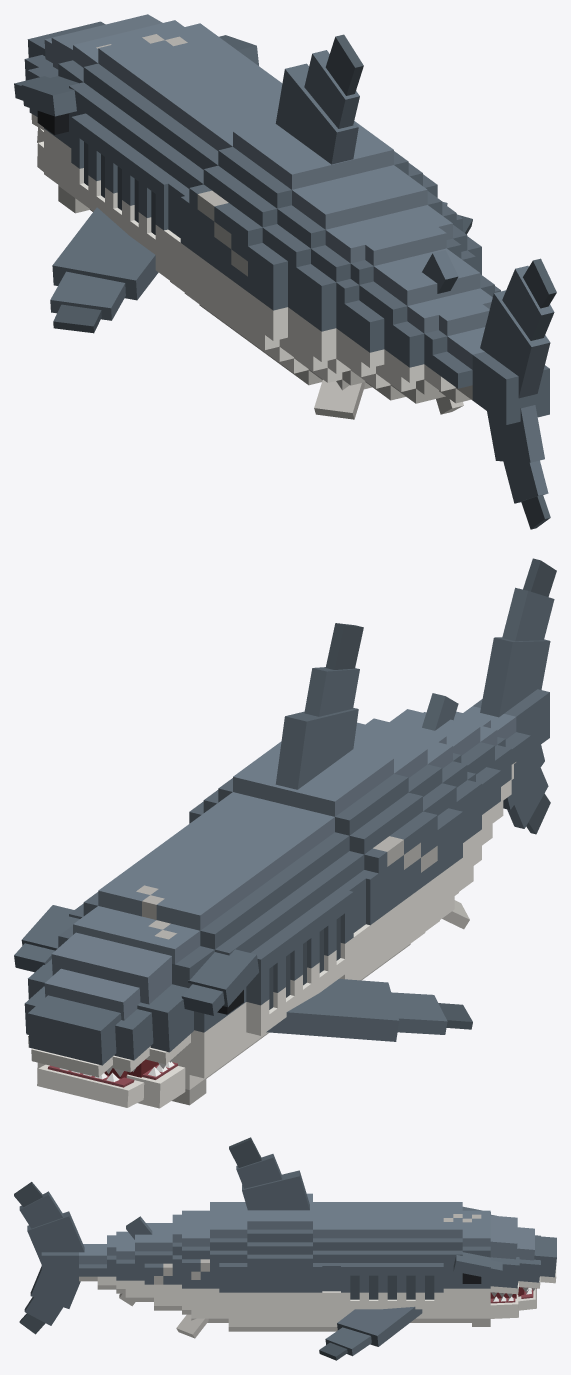
Rendered from GreatWhite.obj.
The picture shows the model from 3 angles, top to bottom: view 1: azimuth 30°, elevation 25°; view 2: azimuth 150°, elevation 25°; view 3: azimuth 270°, elevation 25°; orthographic projection. The views are drawn at different scales.
Visible parts, largest first — view 1: S2, S1, S3, S4, Tail, Head, S5; view 2: Head, S2, S1, Tail, S3, S4, S5; view 3: S2, S1, Head, S3, Tail, S4, S5.
Boxes of the visible parts, box(x1,y1,x2,y2) form: S2: box(155, 34, 437, 372); S1: box(50, 35, 472, 333); S3: box(248, 165, 481, 419); S4: box(336, 227, 500, 414); Tail: box(472, 258, 556, 529); Head: box(14, 14, 258, 213); S5: box(401, 294, 492, 403); Head: box(14, 878, 258, 1108); S2: box(189, 623, 437, 980); S1: box(115, 816, 472, 1070); Tail: box(473, 558, 556, 834); S3: box(353, 722, 481, 956); S4: box(365, 693, 503, 845); S5: box(423, 706, 530, 800); S2: box(229, 1137, 350, 1331); S1: box(319, 1202, 443, 1360); Head: box(443, 1202, 556, 1326); S3: box(176, 1202, 247, 1338); Tail: box(14, 1182, 84, 1334); S4: box(119, 1214, 181, 1310); S5: box(79, 1231, 125, 1293).
Bounding box in the file's own units: 12.96 × 10.37 × 26.13.
Materials: 1 (1 with a texture image).
